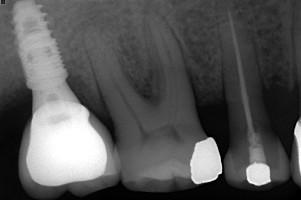Endo-Periodontal Lesion: (129, 71, 157, 101)
